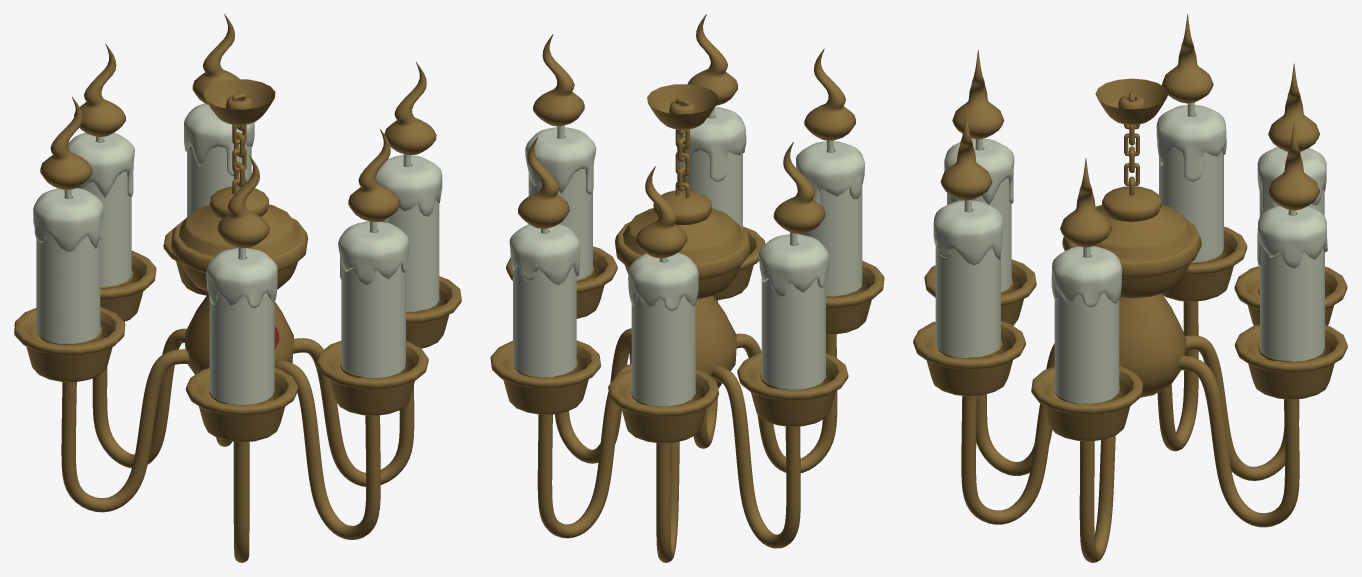
Rendered from Pre_chandelier.fbx.
The picture shows the model from 3 angles, left to right: view 1: azimuth 30°, elevation 25°; view 2: azimuth 150°, elevation 25°; view 3: azimuth 270°, elevation 25°; orthographic projection.
Visible parts, largest first — view 1: polySurface13, polySurface16, Fire1, midd, Top, Under; view 2: polySurface13, polySurface16, Fire1, midd, Under, Top; view 3: polySurface13, polySurface16, Fire1, midd, Under, Top.
Part boxes in pixels (x1,y1,x2,y2): polySurface13: (33,103,442,404); polySurface16: (14,227,461,562); Fire1: (40,14,436,248); midd: (171,93,307,291); Top: (203,79,275,125); Under: (185,293,293,374); polySurface13: (509,106,864,406); polySurface16: (490,226,884,562); Fire1: (518,14,855,258); midd: (615,98,750,299); Under: (628,296,736,388); Top: (647,84,718,129); polySurface13: (933,102,1327,403); polySurface16: (913,226,1347,562); Fire1: (940,14,1319,247); midd: (1062,92,1201,298); Under: (1119,293,1186,397); Top: (1095,78,1168,124).
Bounding box in the file's own units: 7.42 × 7.78 × 7.28.
1 material, 1 textured.
